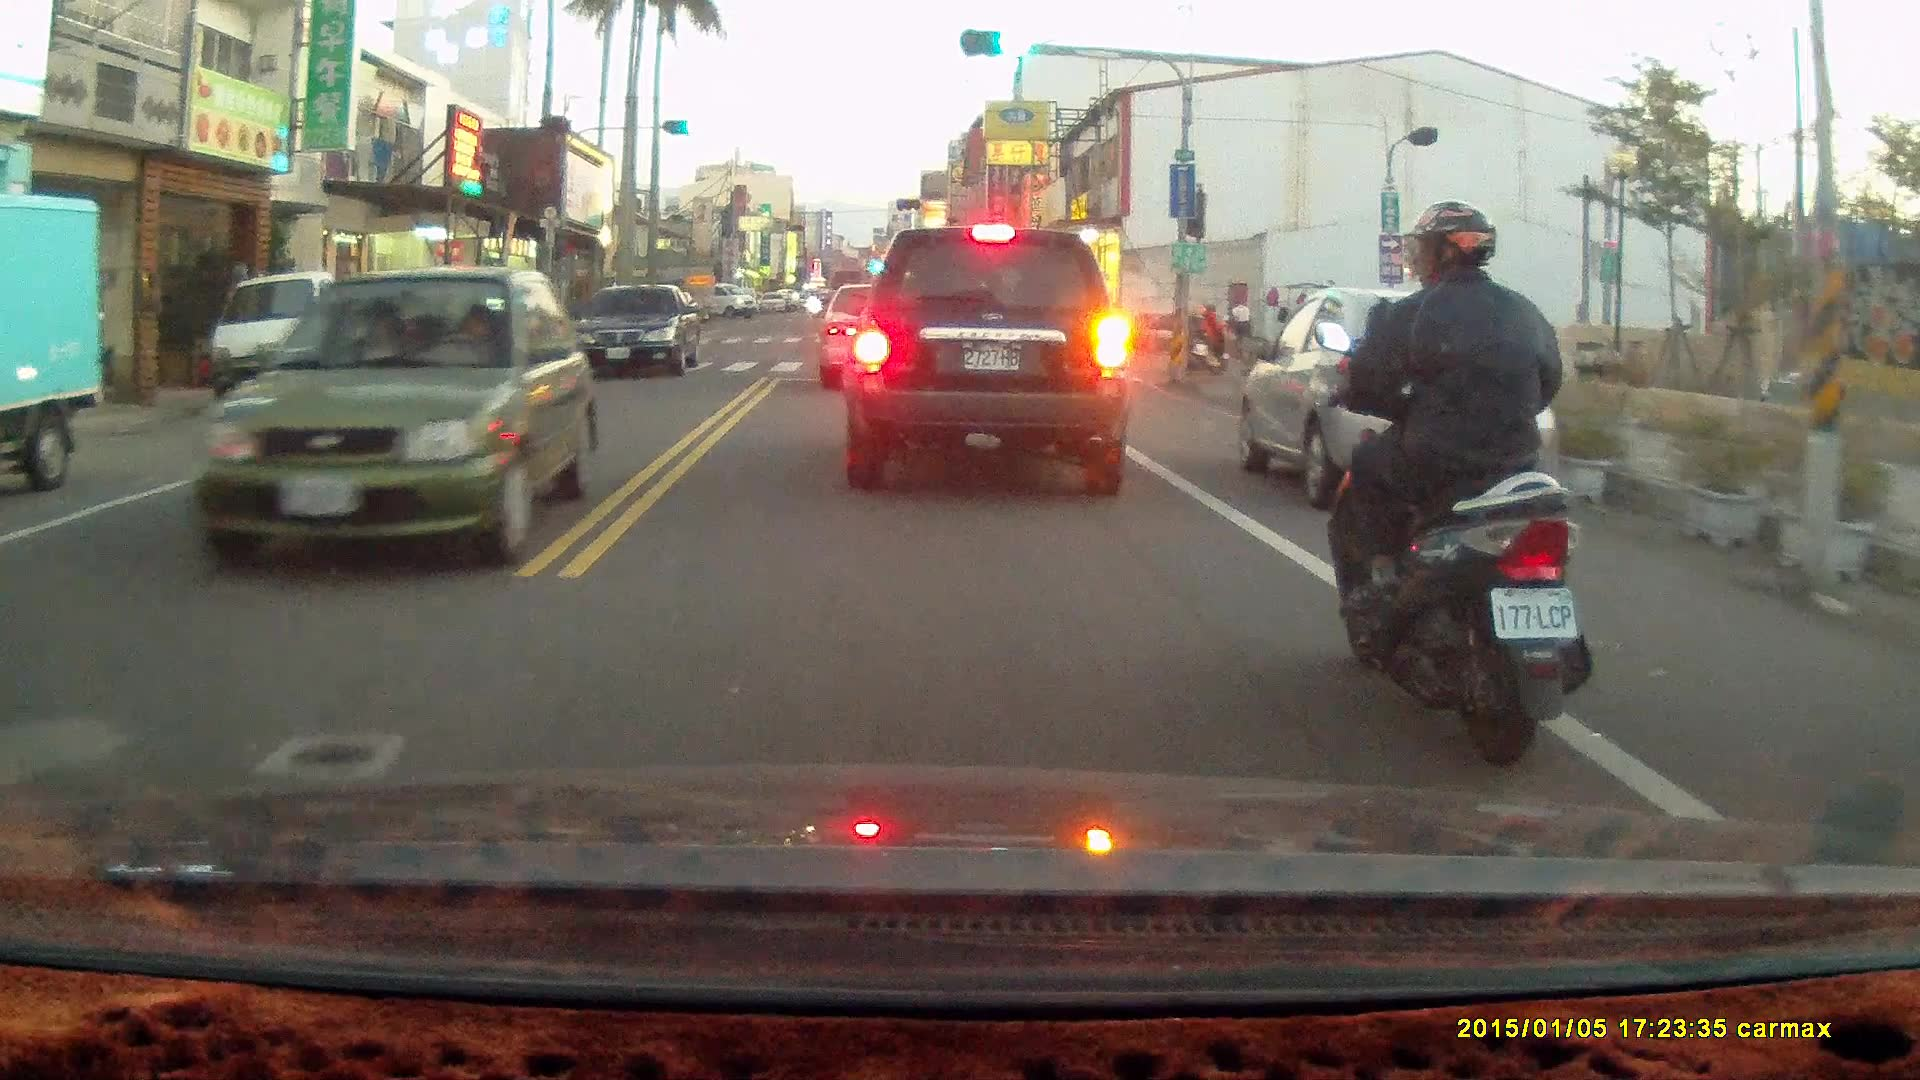pedestrian: (1228, 294, 1254, 362)
rider: (1318, 199, 1598, 774), (1175, 293, 1231, 373)
vehicle: (194, 264, 590, 572), (1235, 288, 1570, 530), (847, 223, 1135, 498), (1, 191, 106, 495), (208, 268, 397, 401), (572, 283, 707, 382), (820, 283, 939, 395)
